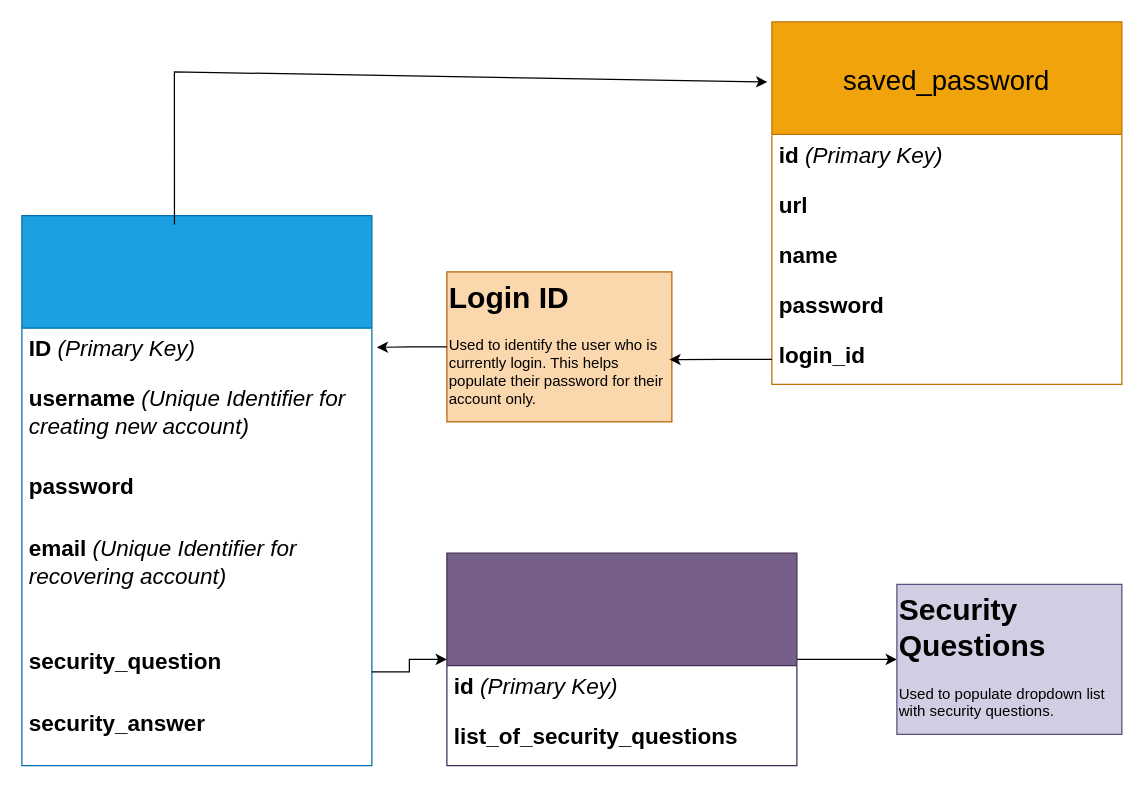
This 1144x791 diagram has some shape labels left out. Each missing label, with the box of its shape:
login: (21, 214, 372, 766)
security_questions (Static Data): (446, 552, 797, 766)
